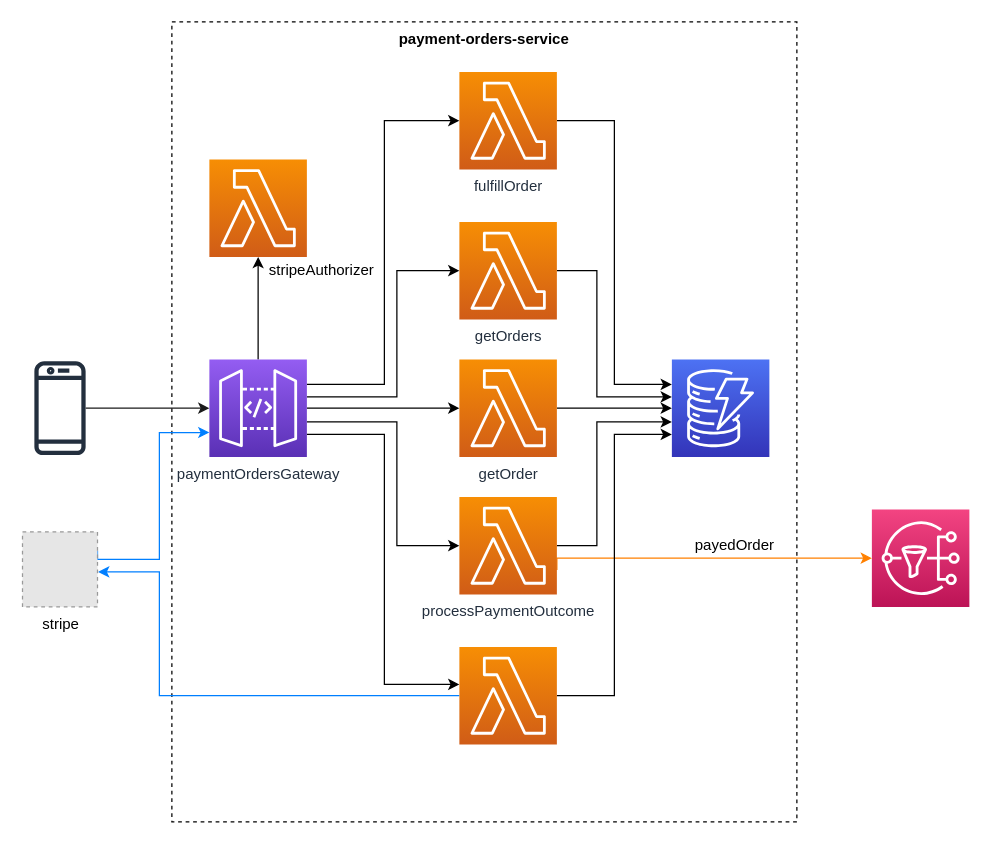
This 991x844 diagram has some shape labels left out. Grey dashed boxes stand in for pictures. The box of each missing label's shape, as (x1, y1, x2, y2) in pixels:
Client: (34, 359, 85, 456)
newOrder: (458, 646, 557, 744)
paymentOrderDB: (671, 358, 769, 457)
SNS: (871, 508, 969, 607)
